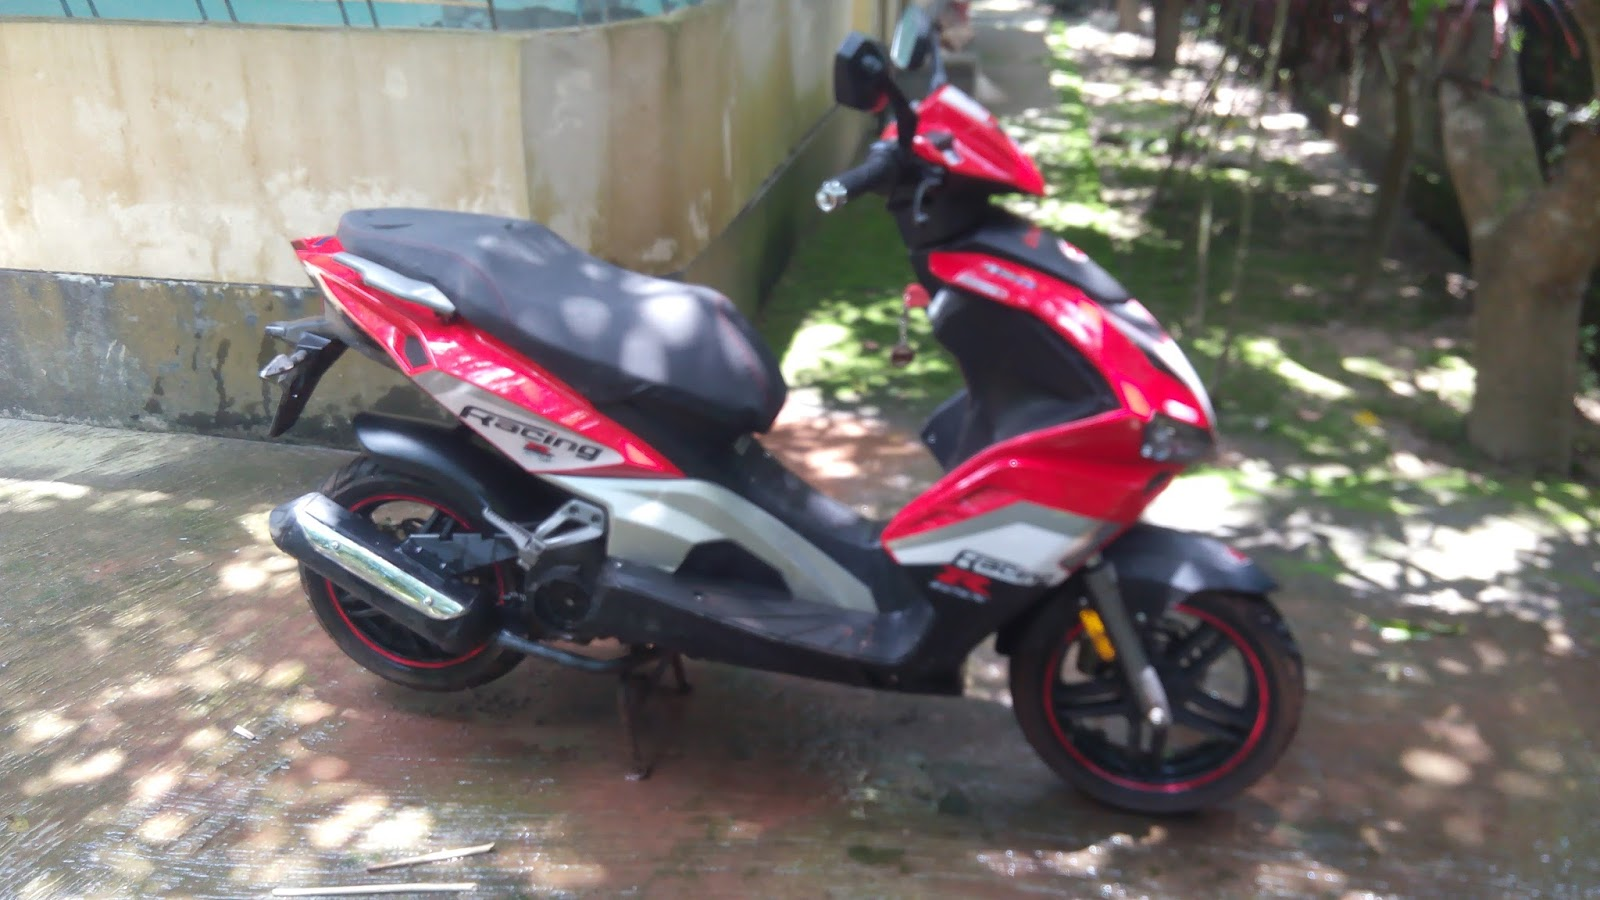scooter: (257, 4, 1312, 821)
